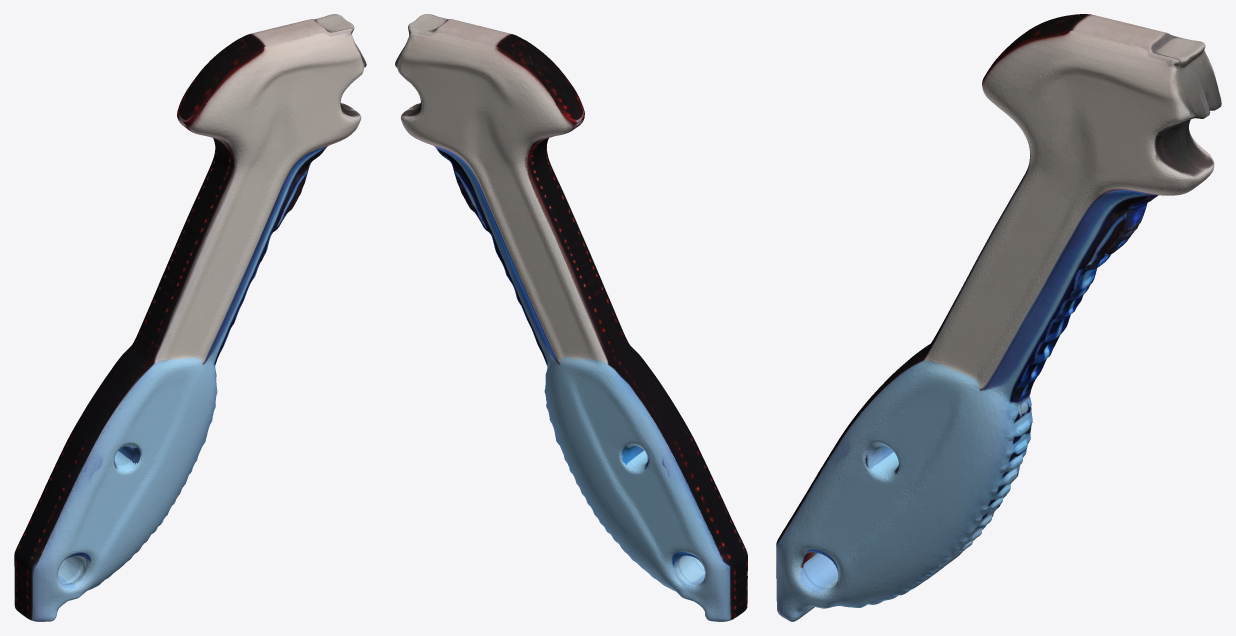
File: image_0000_segmented.glb
3 renders of one model, left to right at view 1: azimuth 30°, elevation 25°; view 2: azimuth 150°, elevation 25°; view 3: azimuth 330°, elevation 25°, orthographic. The views are drawn at different scales.
Visible parts, largest first — view 1: tmpzfp9zw4h.ply; view 2: tmpzfp9zw4h.ply; view 3: tmpzfp9zw4h.ply.
Boxes of the visible parts, box(x1,y1,x2,y2) form: tmpzfp9zw4h.ply: box(14, 14, 366, 621); tmpzfp9zw4h.ply: box(395, 14, 747, 621); tmpzfp9zw4h.ply: box(776, 14, 1221, 621).
Size of the model in its own units: 1.36 by 1.99 by 0.2272.
1 material, 1 textured.
